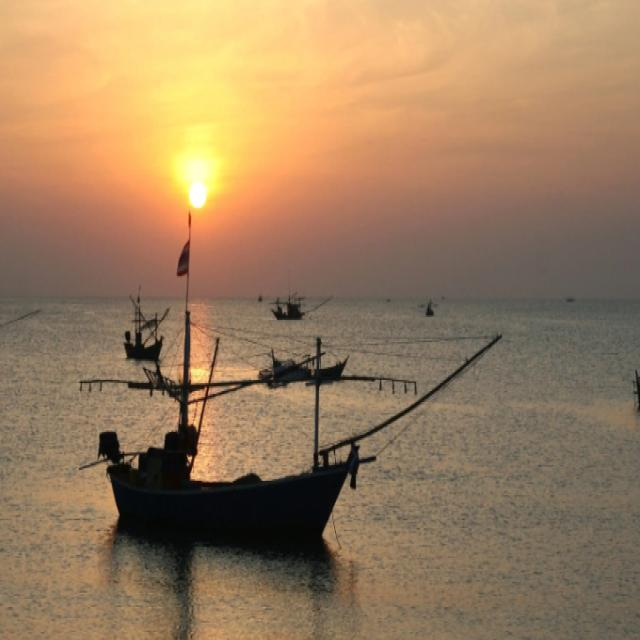fishing boat: (104, 308, 380, 546), (262, 334, 351, 391), (124, 284, 166, 354), (272, 289, 308, 326), (0, 285, 7, 350), (423, 298, 438, 320)
